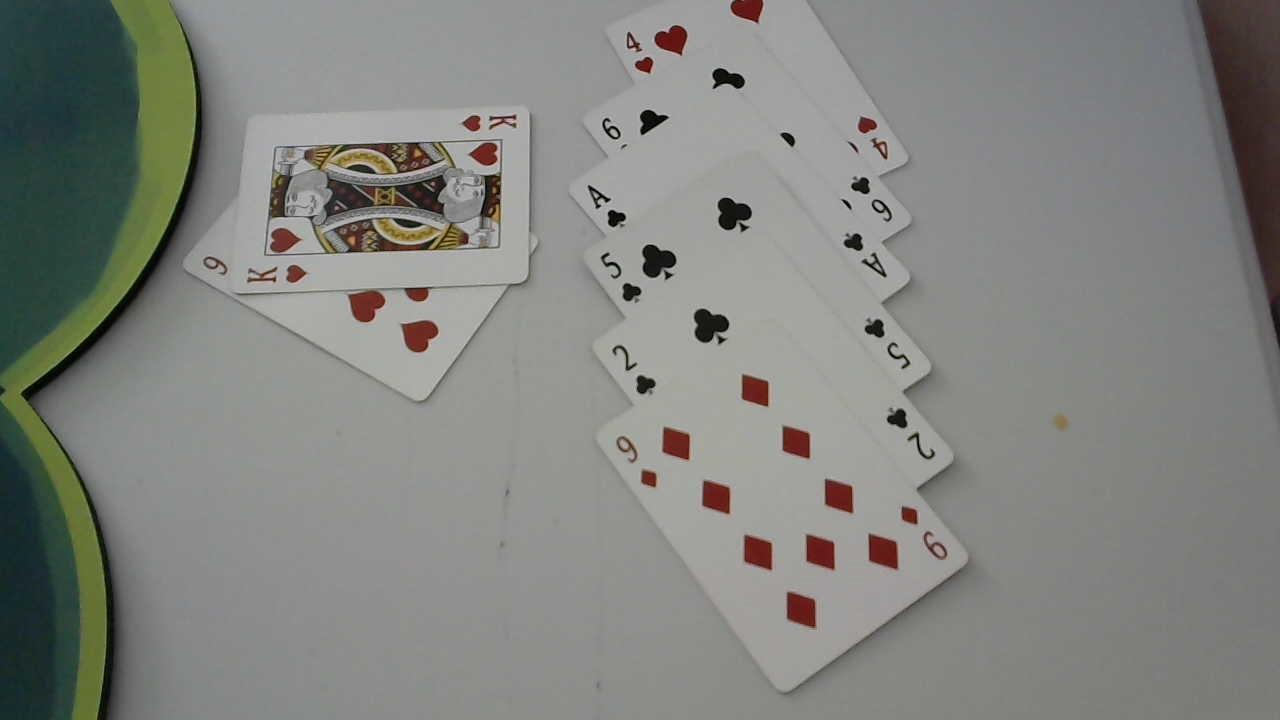2C: (611, 336, 663, 402), (882, 403, 939, 459)
4H: (853, 112, 896, 162), (621, 28, 659, 75)
5C: (859, 314, 913, 377), (599, 250, 645, 307)
6C: (848, 171, 900, 225)
9D: (611, 428, 668, 497), (897, 501, 950, 563)
AC: (839, 226, 891, 283), (584, 181, 629, 234)
KH: (242, 260, 313, 287), (454, 109, 521, 135)
